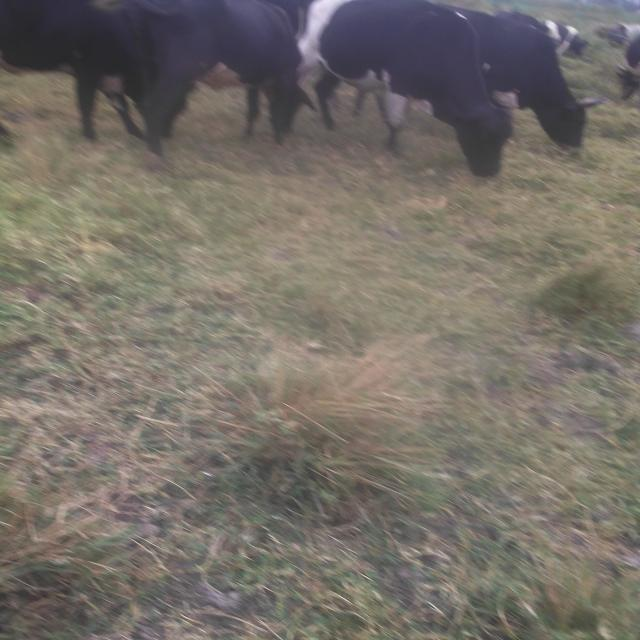Rear: (123, 0, 310, 155)
